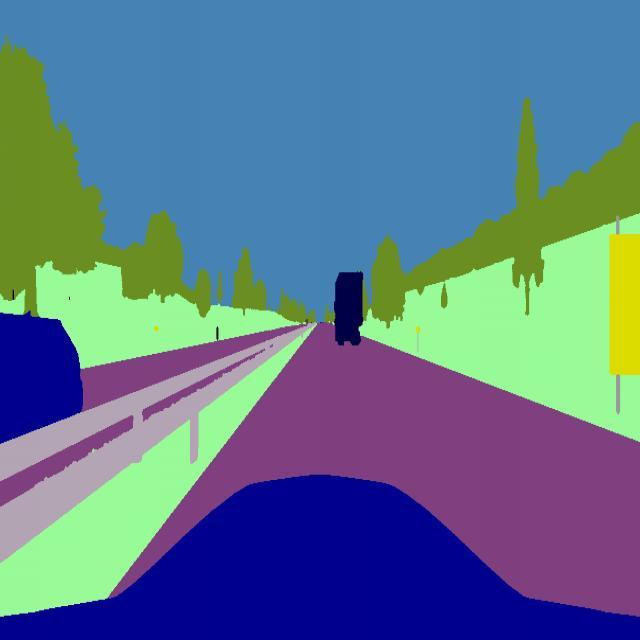safe: (0, 310, 84, 450), (333, 268, 364, 349)
